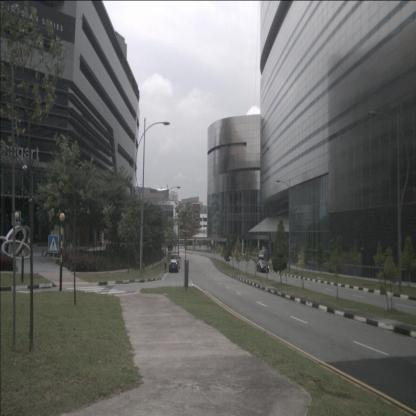human-pedestrian-adult: (165, 255, 167, 271)
vehicle-car: (257, 260, 269, 273), (169, 259, 179, 273), (172, 254, 180, 269), (258, 251, 268, 261)
